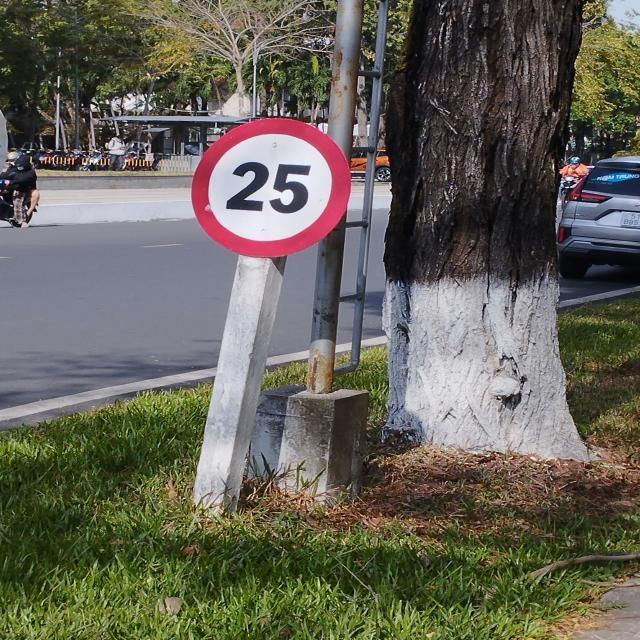Tre_Em: (191, 118, 352, 258)
